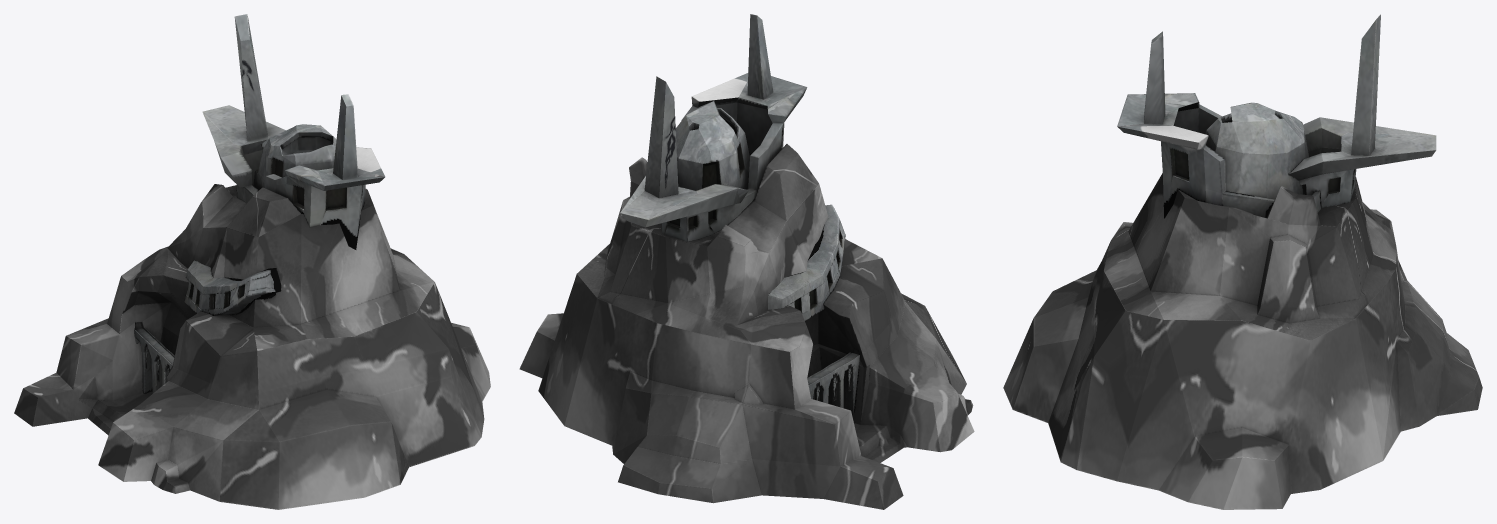
File: templeFortress_edit_for_FBX.fbx
3 views of the same model, side by side, from view 1: azimuth 30°, elevation 25°; view 2: azimuth 150°, elevation 25°; view 3: azimuth 270°, elevation 25° (orthographic). The views are drawn at different scales.
Parts seen in each view (by area): view 1: templeFortress; view 2: templeFortress; view 3: templeFortress.
Boxes of the visible parts, x1=… form: templeFortress: x1=14, y1=14, x2=490, y2=509; templeFortress: x1=519, y1=14, x2=974, y2=509; templeFortress: x1=1003, y1=14, x2=1482, y2=509.
Bounding box in the file's own units: 4833 × 4066 × 4464.
